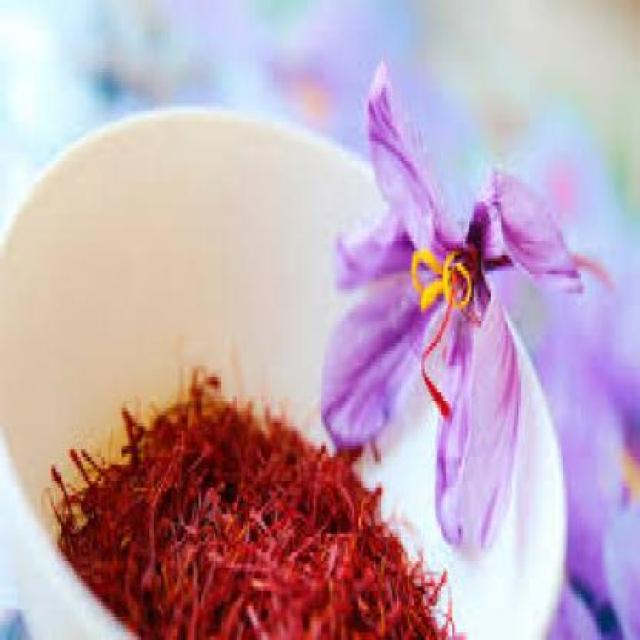Flower: (324, 43, 578, 554)
stigma: (411, 284, 474, 438)
